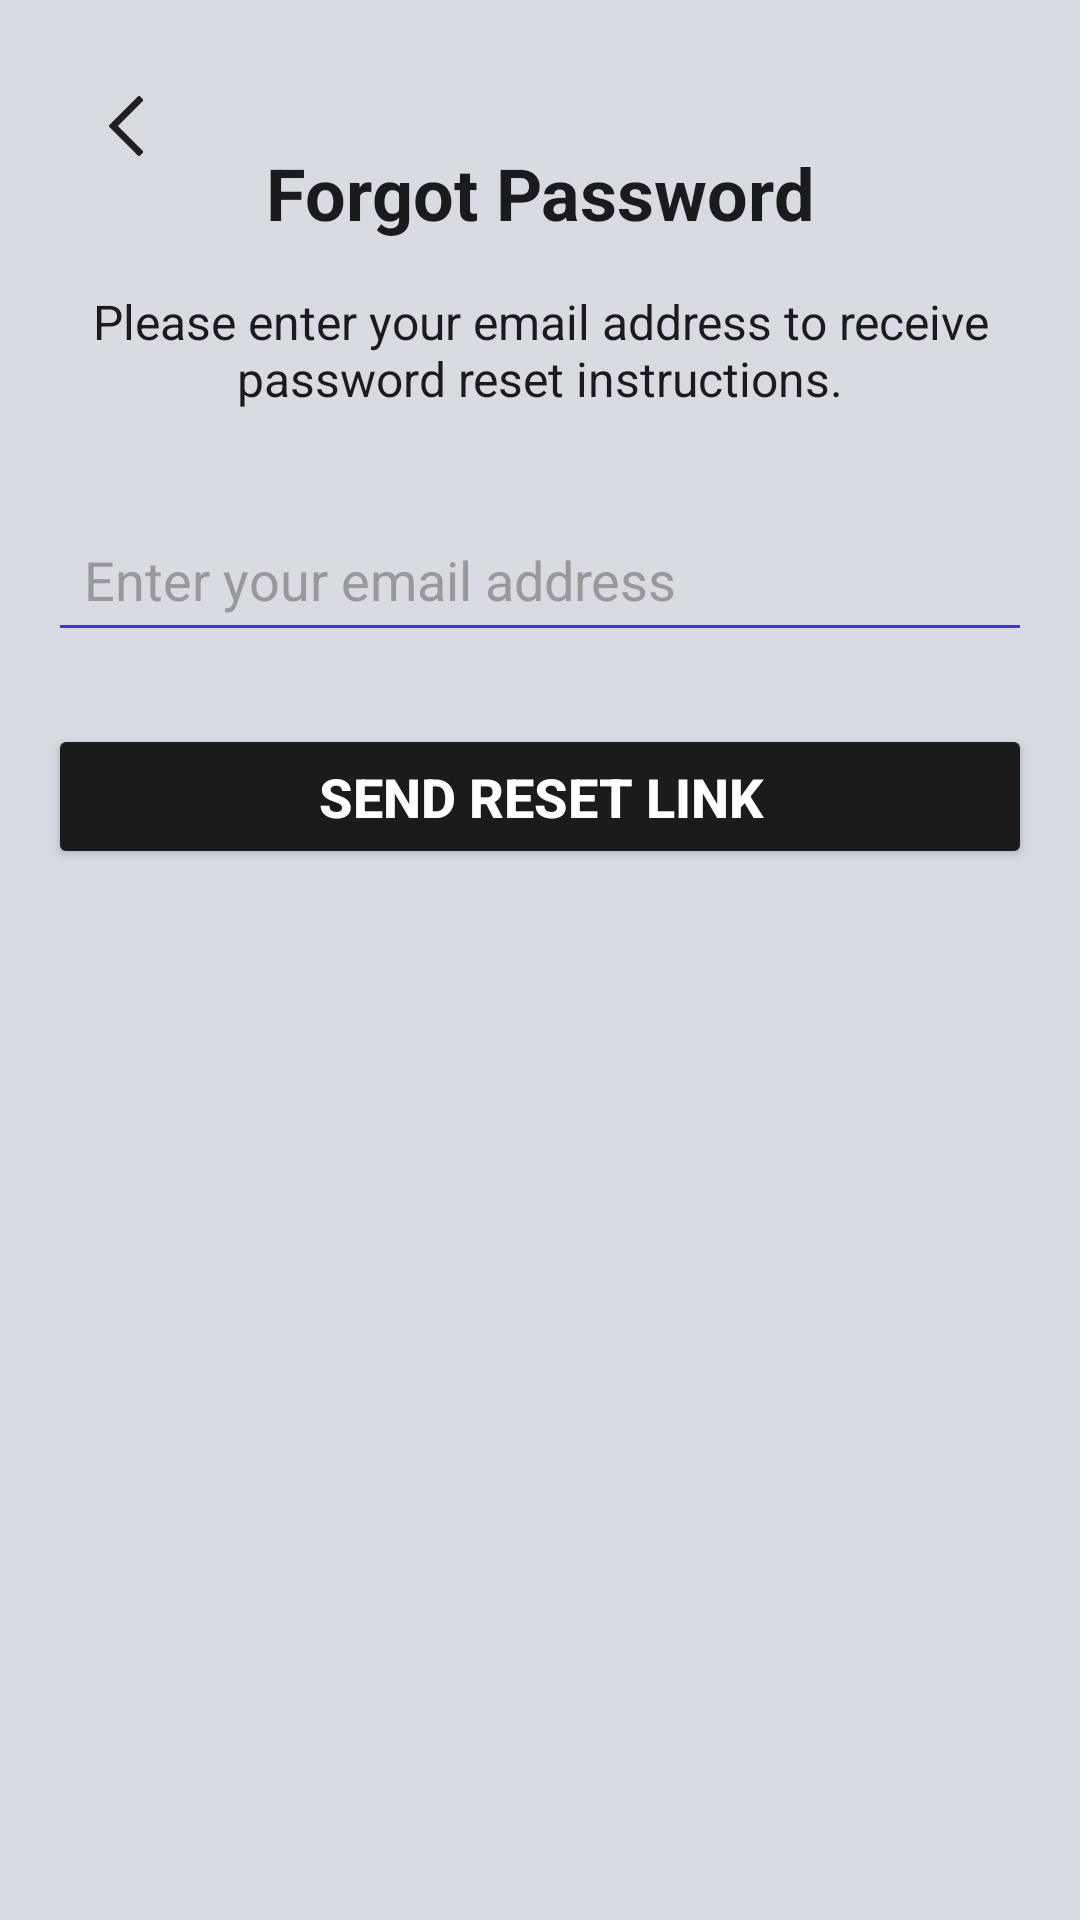

Point at icon controls on the screen. Image size 1080px x 1920px, points as point (x, y).
Back to Main Page: point (126, 126)
